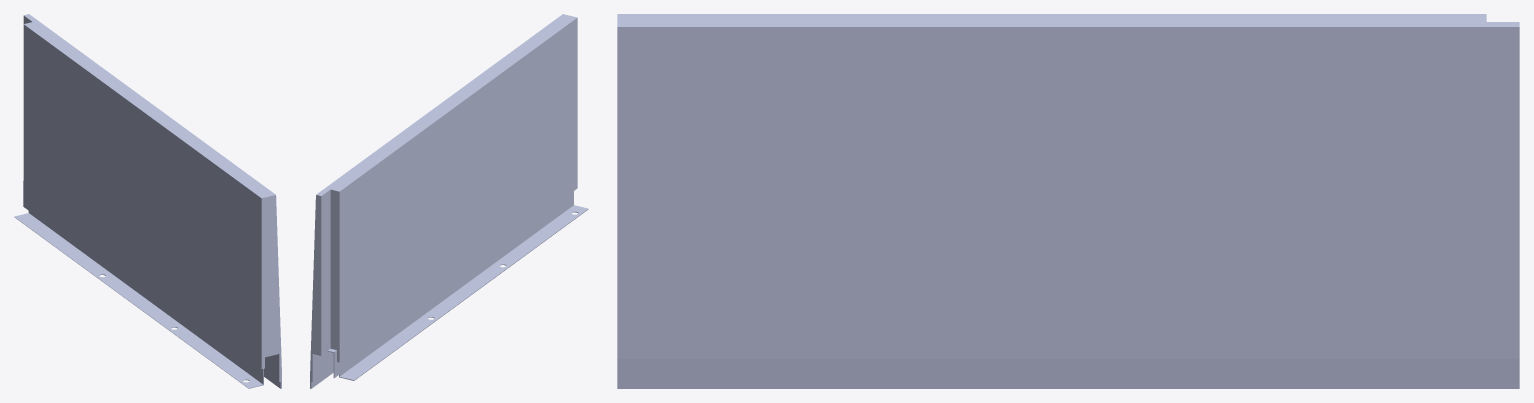
File: mv-kava-E450-m.glb
3 renders of one model, left to right at view 1: azimuth 30°, elevation 25°; view 2: azimuth 150°, elevation 25°; view 3: azimuth 270°, elevation 25°, orthographic. The views are drawn at different scales.
Visible parts, largest first — view 1: 48430352; view 2: 48430352; view 3: 48430352.
Boxes of the visible parts, box(x1,y1,x2,y2) form: 48430352: box(14, 14, 281, 388); 48430352: box(310, 14, 588, 388); 48430352: box(617, 14, 1519, 388).
Bounding box in the file's own units: 0.0335 × 0.192 × 0.4402.
